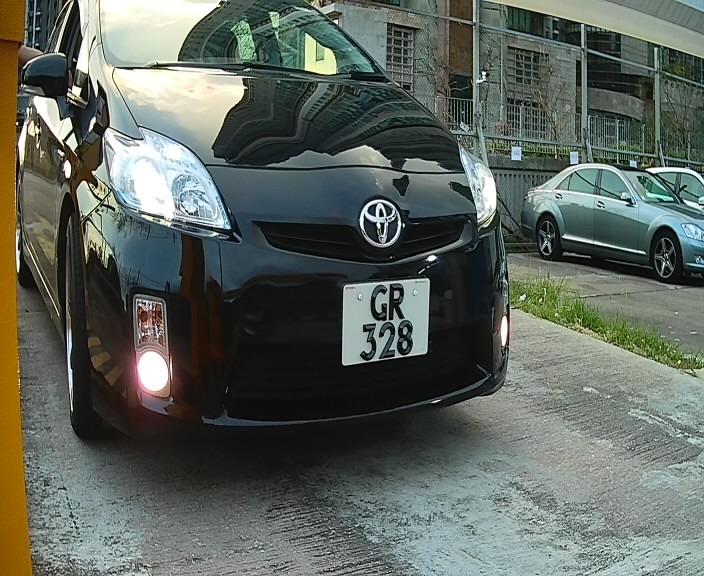Car: (2, 2, 539, 484)
License Plate: (337, 272, 436, 374)
